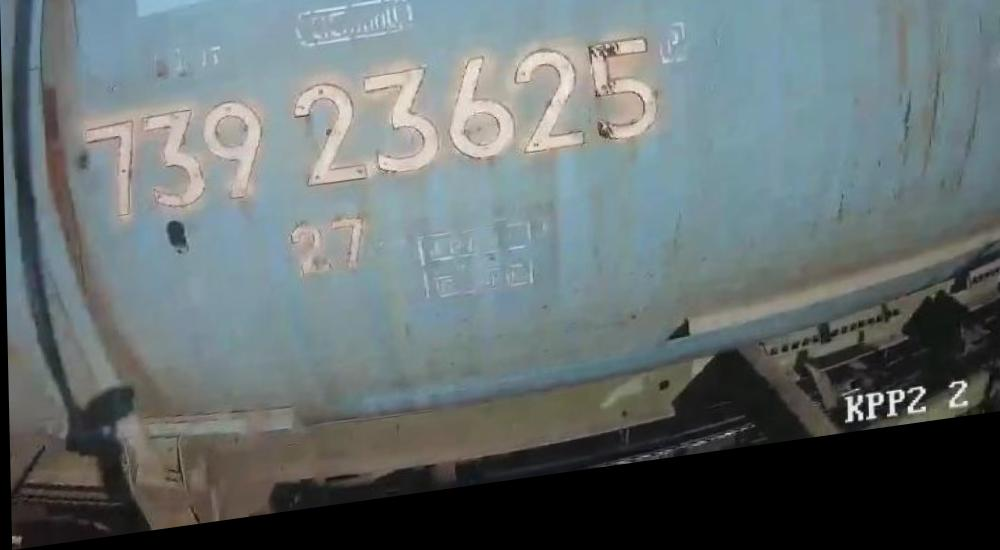Wagon-number: (80, 51, 661, 234)
